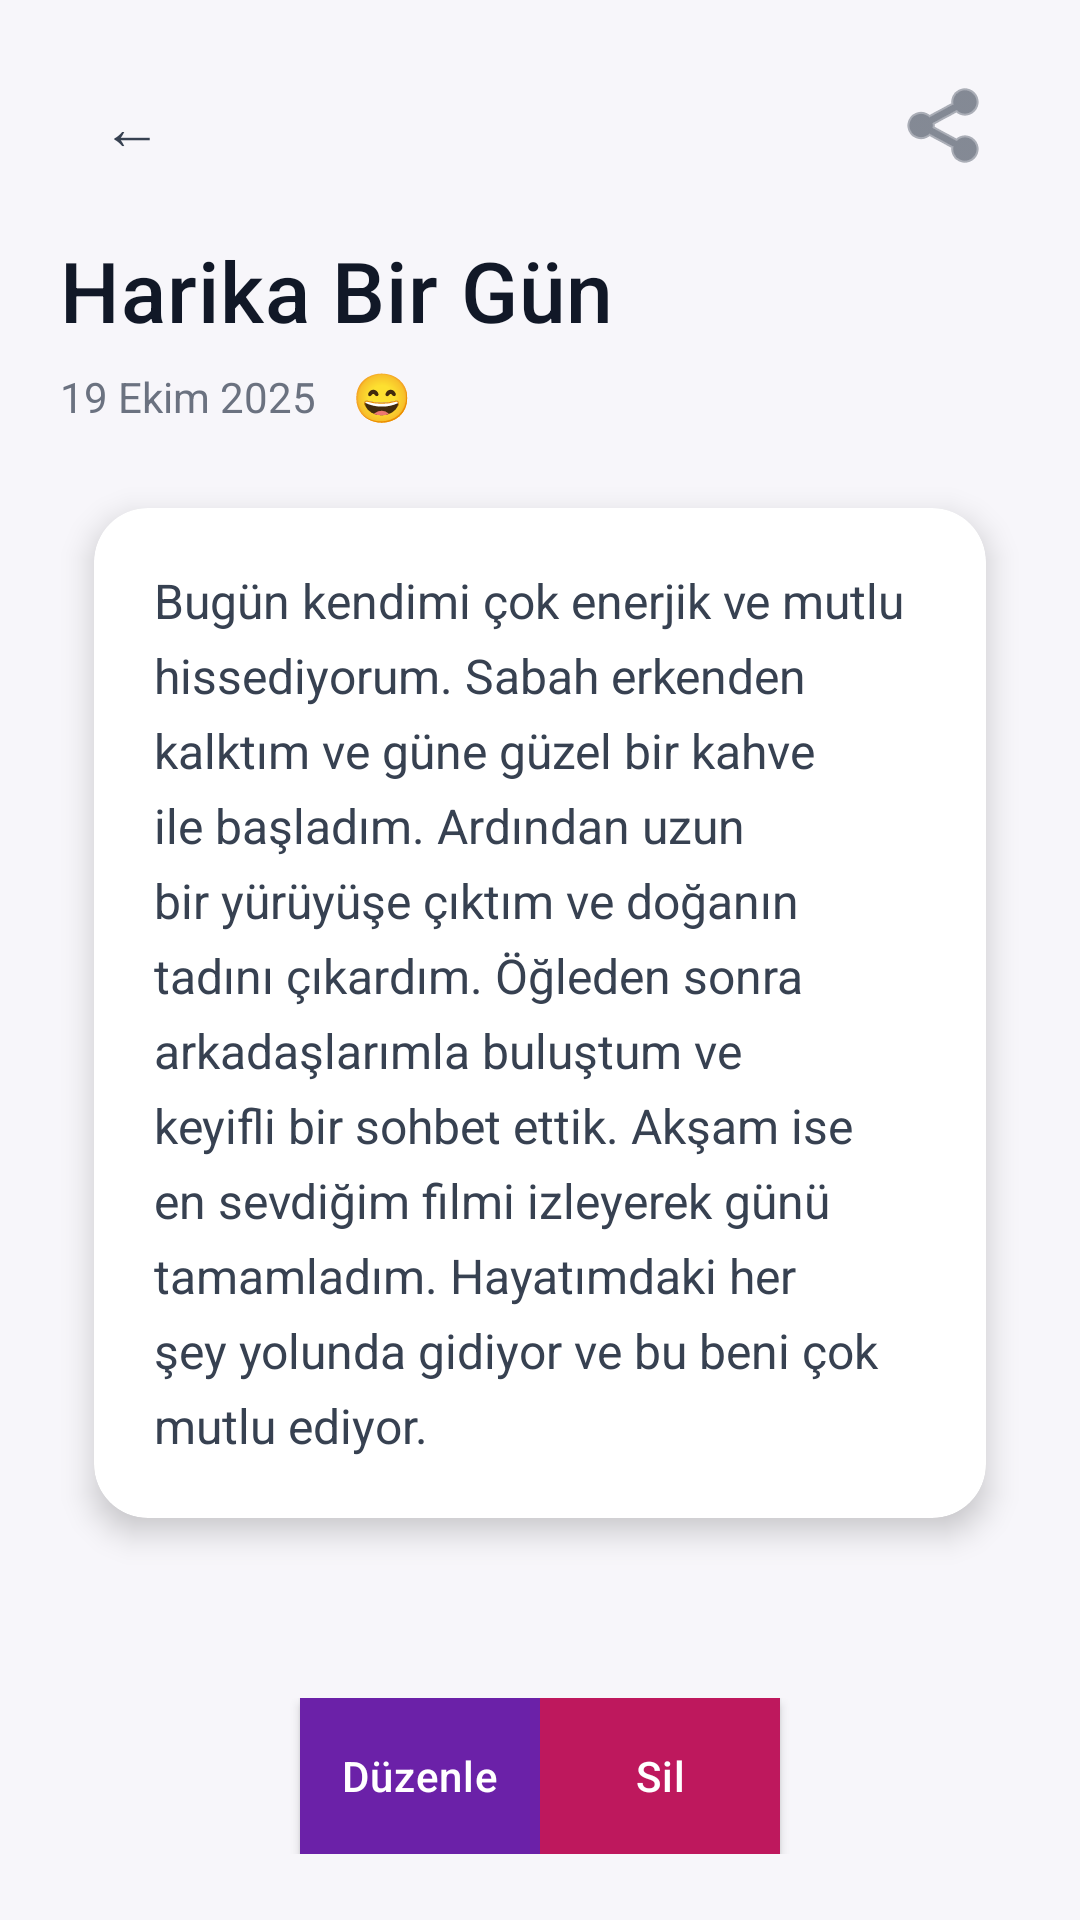

Icons on this 1080px×1920px Android screen, each with the point to tap as (x=x, y=y):
Paylaş: (x=943, y=125)
